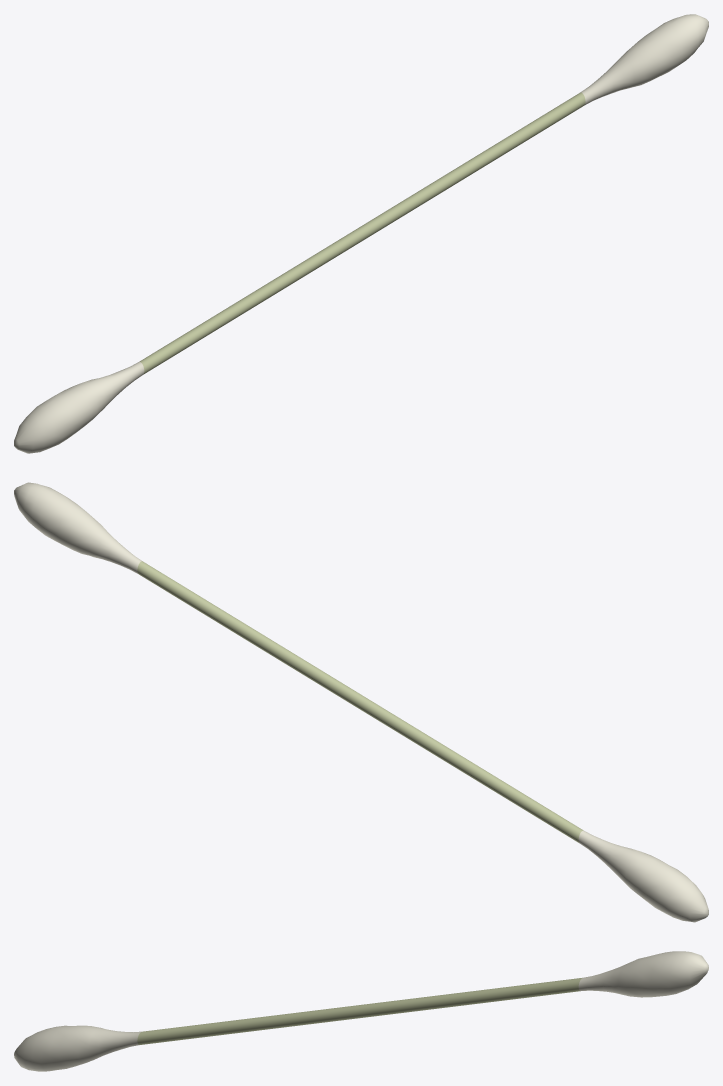
File: A-NEW-20261027-COTTON-SWAB-001_LOD2_R1.glb
3 renders of one model, top to bottom at view 1: azimuth 30°, elevation 25°; view 2: azimuth 150°, elevation 25°; view 3: azimuth 330°, elevation 25°, orthographic.
Parts seen in each view (by area): view 1: continuous original swab stem and two tapered cotton tips; view 2: continuous original swab stem and two tapered cotton tips; view 3: continuous original swab stem and two tapered cotton tips.
Boxes of the visible parts, x1=… form: continuous original swab stem and two tapered cotton tips: x1=14, y1=14, x2=708, y2=453; continuous original swab stem and two tapered cotton tips: x1=14, y1=482, x2=708, y2=922; continuous original swab stem and two tapered cotton tips: x1=14, y1=951, x2=708, y2=1071.
Bounding box in the file's own units: 0.0756 × 0.0286 × 0.00437.
